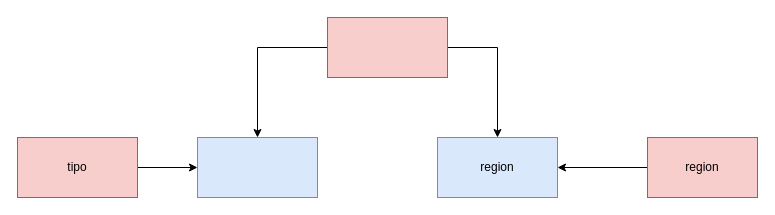
Image size: 775x215. Some labels were removed from this diagram. The centre of each missing label's shape, as x and y in pixels:
"pokemones" goes at [387,47].
"tipo pokemon" goes at [257,167].
